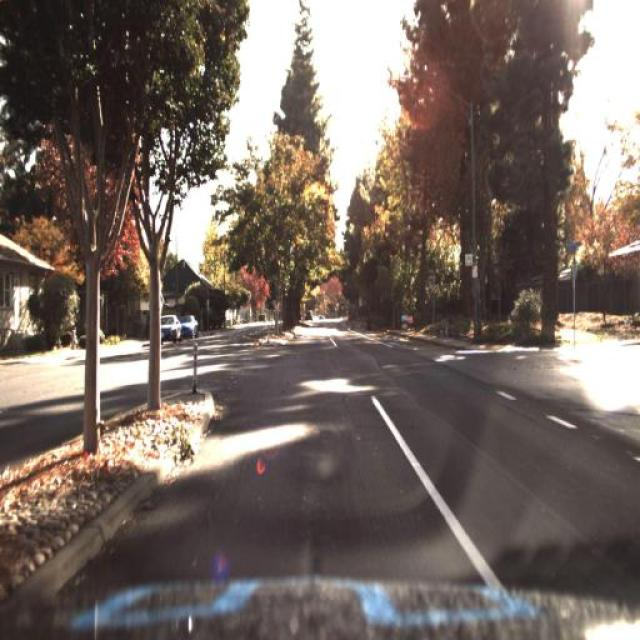car: (152, 302, 179, 349), (174, 312, 202, 347), (180, 312, 198, 337), (302, 304, 313, 330)
